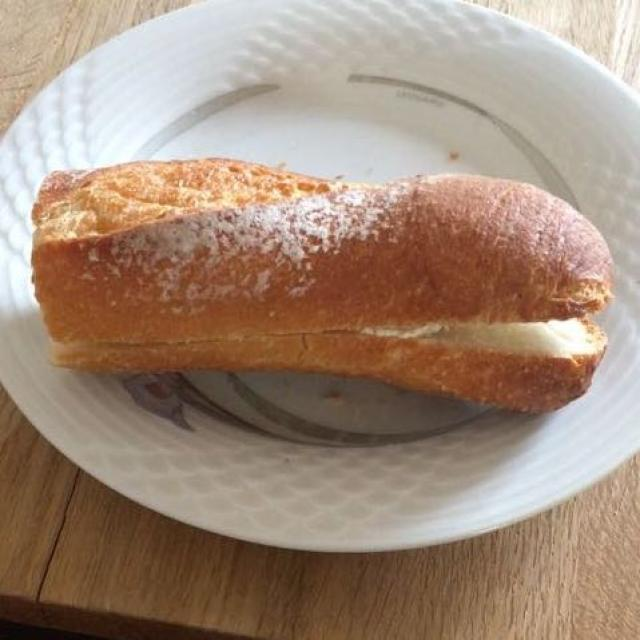bread-french-white-flour: (43, 160, 607, 412)
